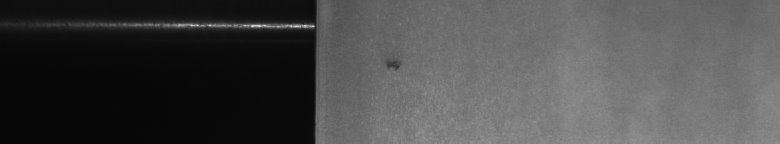fi: (385, 52, 407, 80)
